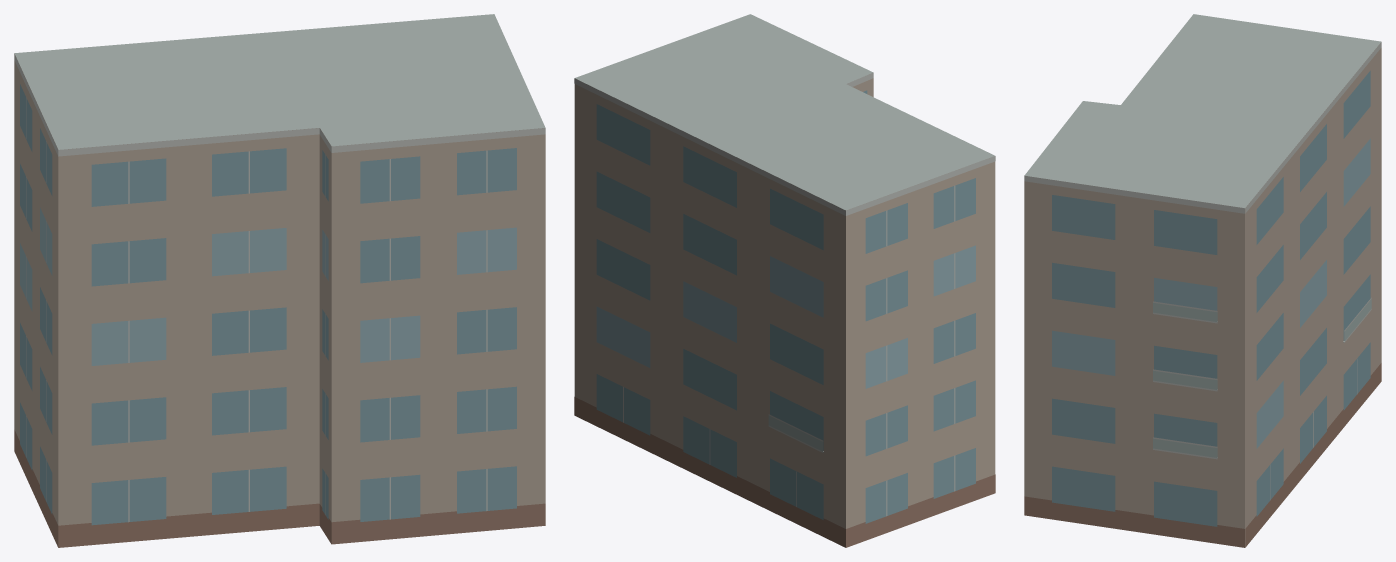
File: survey-upis-32972616.glb
3 views of the same model, side by side, from view 1: azimuth 30°, elevation 25°; view 2: azimuth 150°, elevation 25°; view 3: azimuth 270°, elevation 25° (orthographic). The views are drawn at different scales.
Visible parts, largest first — view 1: survey-upis-32972616.tmp; view 2: survey-upis-32972616.tmp; view 3: survey-upis-32972616.tmp.
Boxes of the visible parts, x1,y1,x2,y2 form: survey-upis-32972616.tmp: (14, 14, 545, 547); survey-upis-32972616.tmp: (574, 14, 995, 547); survey-upis-32972616.tmp: (1024, 14, 1381, 547).
Size of the model in its own units: 18.1 by 14.75 by 14.07.
